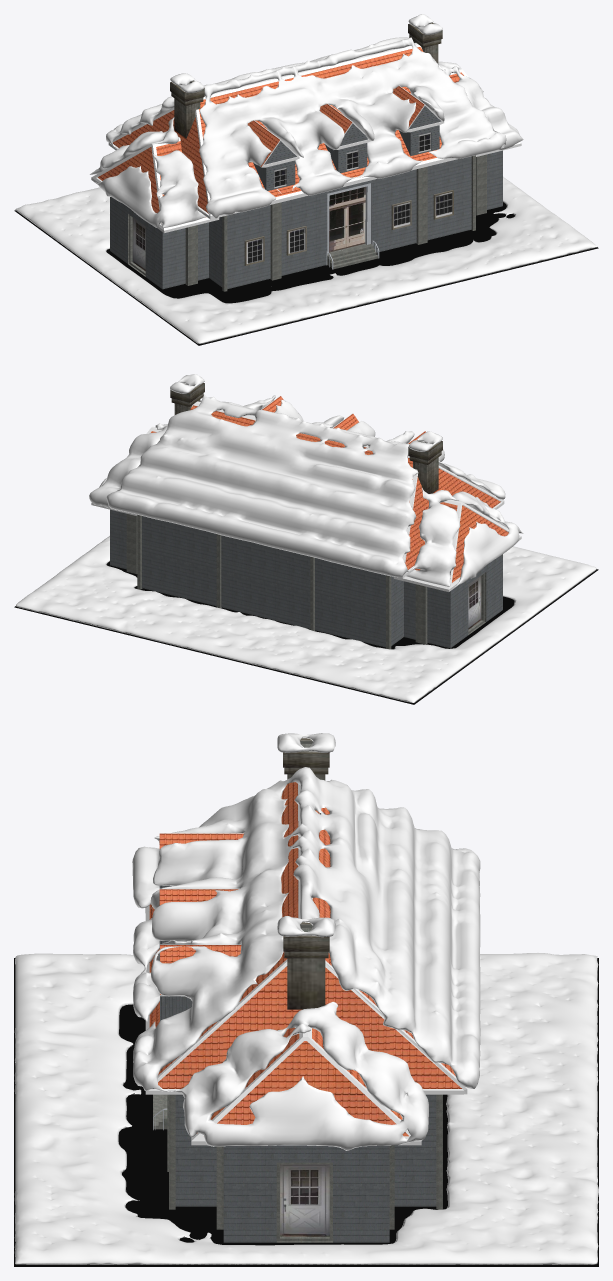
File: House_S10P3.glb
3 views of the same model, one above another, from view 1: azimuth 30°, elevation 25°; view 2: azimuth 150°, elevation 25°; view 3: azimuth 270°, elevation 25° (orthographic). The views are drawn at different scales.
Parts seen in each view (by area): view 1: SnowMesh, House1, Plane; view 2: SnowMesh, House1, Plane; view 3: SnowMesh, House1, Plane.
Boxes of the visible parts, <box> form: SnowMesh: <box>15,14,597,343</box>; House1: <box>91,23,521,291</box>; Plane: <box>14,202,598,345</box>; SnowMesh: <box>16,374,596,702</box>; House1: <box>91,383,521,649</box>; Plane: <box>14,561,598,704</box>; SnowMesh: <box>14,733,598,1264</box>; House1: <box>145,738,467,1242</box>; Plane: <box>14,958,598,1266</box>.
Bounding box in the file's own units: 10 × 4.34 × 8.
Materials: 12 (9 with a texture image).
